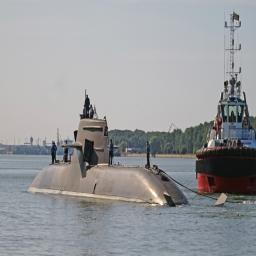submarine: (25, 120, 228, 211)
